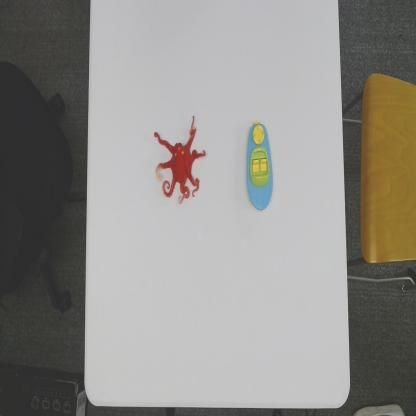Boat: (245, 116, 274, 213)
Octopus: (154, 115, 206, 206)
